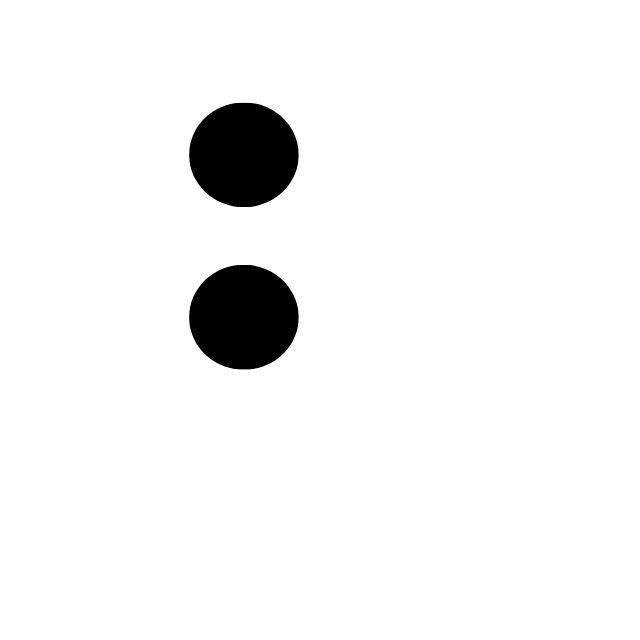bakit: (190, 104, 464, 520)
